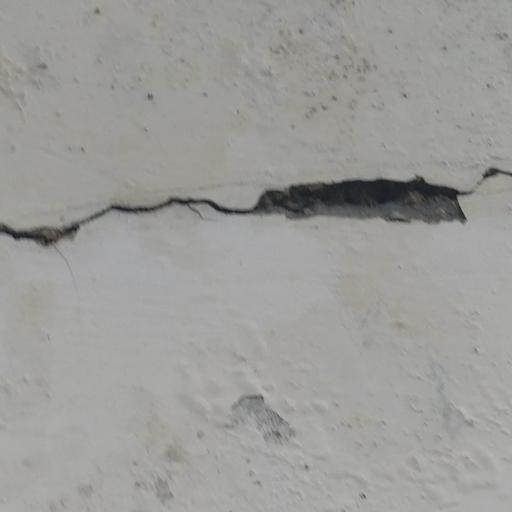major_crack: (0, 161, 512, 252)
